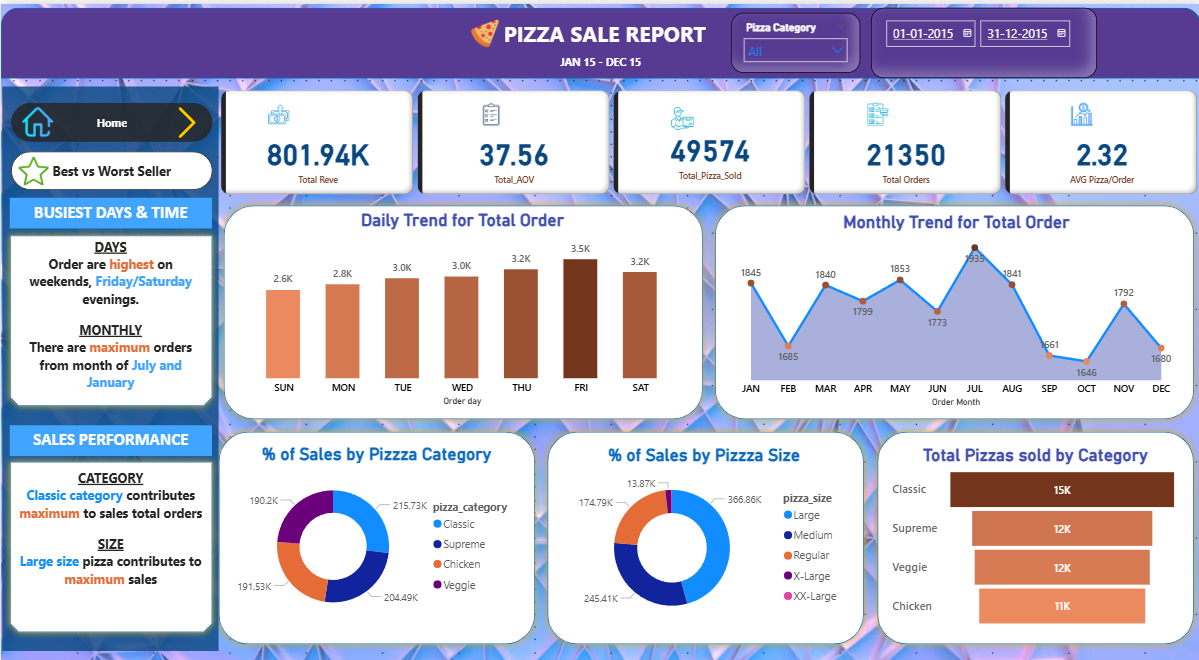

Layout of this report page (visuals, bound fields, positions):
{"tool":"powerbi","page":{"name":"Home","canvas":[1500,820],"ordinal":0},"visuals":[{"type":"cardVisual","fields":{"Data":["pizza_sales.Total Reve","pizza_sales.Total_AVG_AOV","pizza_sales.Total_Pizza_Sold","pizza_sales.Total Orders","pizza_sales.AVG Pizza/Order"]},"box":[270,102.9,1230,140],"z":0},{"type":"shape","box":[0,4.3,1500,88.6],"z":1000},{"type":"textbox","box":[622.9,14.3,347.1,60],"z":2000},{"type":"textbox","box":[694.3,57.1,122.9,35.7],"z":3000},{"type":"image","box":[574.3,14.3,60,45.7],"z":4000},{"type":"shape","box":[270,243.3,615,283.3],"z":5000},{"type":"columnChart","title":"Daily Trend for Total Order","fields":{"Y":["pizza_sales.Total Orders"],"Category":["pizza_sales.Order day"]},"box":[296.7,258.3,560,250],"z":6000},{"type":"shape","box":[885,243.3,615,283.3],"z":7000},{"type":"areaChart","title":"Monthly Trend for Total Order","fields":{"Category":["pizza_sales.Order Month"],"Y":["pizza_sales.Total Orders"]},"box":[913.3,260,560,250],"z":8000},{"type":"shape","box":[263.9,526.2,411.5,282],"z":9000},{"type":"shape","box":[675.4,526.2,411.5,282],"z":10000},{"type":"shape","box":[1086.9,526.2,411.5,282],"z":11000},{"type":"donutChart","title":"% of Sales by Pizzza Category","fields":{"Category":["pizza_sales.pizza_category"],"Y":["pizza_sales.Total Reve"]},"box":[285.3,550,367.6,232.4],"z":12000},{"type":"donutChart","title":"% of Sales by Pizzza Size","fields":{"Y":["pizza_sales.Total Reve"],"Category":["pizza_sales.pizza_size"]},"box":[695.1,550.8,367.2,232.8],"z":13000},{"type":"funnel","title":"Total Pizzas sold by Category","fields":{"Category":["pizza_sales.pizza_category"],"Y":["pizza_sales.Total_Pizza_Sold"]},"box":[1109.8,550.8,367.2,232.8],"z":14000},{"type":"shape","box":[1.5,102.9,270.6,705.9],"z":15000},{"type":"textbox","box":[10.3,242.6,252.9,38.2],"z":16000},{"type":"shape","box":[2.9,280.9,269.1,229.4],"z":17000},{"type":"textbox","box":[17.6,286.8,239.7,204.4],"z":18000},{"type":"textbox","box":[10.3,526.5,252.9,38.2],"z":19000},{"type":"shape","box":[2.9,564.7,269.1,229.4],"z":20000},{"type":"slicer","fields":{"Values":["pizza_sales.pizza_category"]},"box":[913.2,10.3,161.8,75],"z":21000},{"type":"slicer","fields":{"Values":["pizza_sales.order_date"]},"box":[1086.8,4.4,282.4,88.2],"z":22000},{"type":"textbox","box":[17.6,576.5,239.7,204.4],"z":23000},{"type":"pageNavigator","box":[11.8,123.5,252.9,50],"z":24000},{"type":"pageNavigator","box":[11.8,183.8,252.9,48.5],"z":25000},{"type":"image","box":[207.4,123.5,50,50],"z":26000},{"type":"image","box":[17.6,123.5,57.4,48.5],"z":27000},{"type":"image","box":[17.6,183.8,47.1,48.5],"z":28000}]}

Visuals, with their boxes in screenshot pixels (x1, y1, x2, y2), scaled from the page's 1500x820 canvas onto the 1199x660 screenshot:
cardVisual - pizza_sales.Total Reve x pizza_sales.Total_AVG_AOV: pyautogui.locateOnScreen(216, 83, 1198, 196)
shape: pyautogui.locateOnScreen(0, 3, 1198, 75)
textbox: pyautogui.locateOnScreen(498, 12, 775, 60)
textbox: pyautogui.locateOnScreen(555, 46, 653, 75)
image: pyautogui.locateOnScreen(459, 12, 507, 48)
shape: pyautogui.locateOnScreen(216, 196, 707, 424)
"Daily Trend for Total Order" columnChart: pyautogui.locateOnScreen(237, 208, 685, 409)
shape: pyautogui.locateOnScreen(707, 196, 1198, 424)
"Monthly Trend for Total Order" areaChart: pyautogui.locateOnScreen(730, 209, 1178, 410)
shape: pyautogui.locateOnScreen(211, 424, 540, 651)
shape: pyautogui.locateOnScreen(540, 424, 869, 651)
shape: pyautogui.locateOnScreen(869, 424, 1198, 651)
"% of Sales by Pizzza Category" donutChart: pyautogui.locateOnScreen(228, 443, 522, 630)
"% of Sales by Pizzza Size" donutChart: pyautogui.locateOnScreen(556, 443, 849, 631)
"Total Pizzas sold by Category" funnel: pyautogui.locateOnScreen(887, 443, 1181, 631)
shape: pyautogui.locateOnScreen(1, 83, 217, 651)
textbox: pyautogui.locateOnScreen(8, 195, 210, 226)
shape: pyautogui.locateOnScreen(2, 226, 217, 411)
textbox: pyautogui.locateOnScreen(14, 231, 206, 395)
textbox: pyautogui.locateOnScreen(8, 424, 210, 455)
shape: pyautogui.locateOnScreen(2, 455, 217, 639)
slicer - pizza_sales.pizza_category: pyautogui.locateOnScreen(730, 8, 859, 69)
slicer - pizza_sales.order_date: pyautogui.locateOnScreen(869, 4, 1094, 75)
textbox: pyautogui.locateOnScreen(14, 464, 206, 629)
pageNavigator: pyautogui.locateOnScreen(9, 99, 212, 140)
pageNavigator: pyautogui.locateOnScreen(9, 148, 212, 187)
image: pyautogui.locateOnScreen(166, 99, 206, 140)
image: pyautogui.locateOnScreen(14, 99, 60, 138)
image: pyautogui.locateOnScreen(14, 148, 52, 187)
